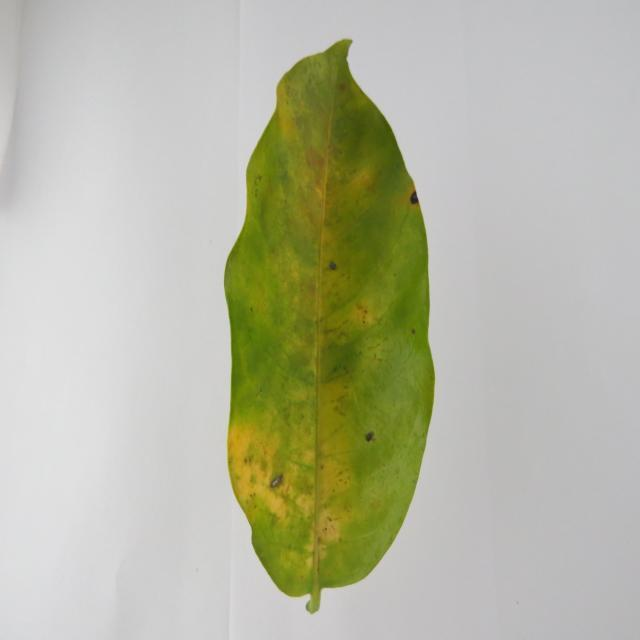DeficienciaNutricional-Nitrogeno: (225, 40, 434, 613)
